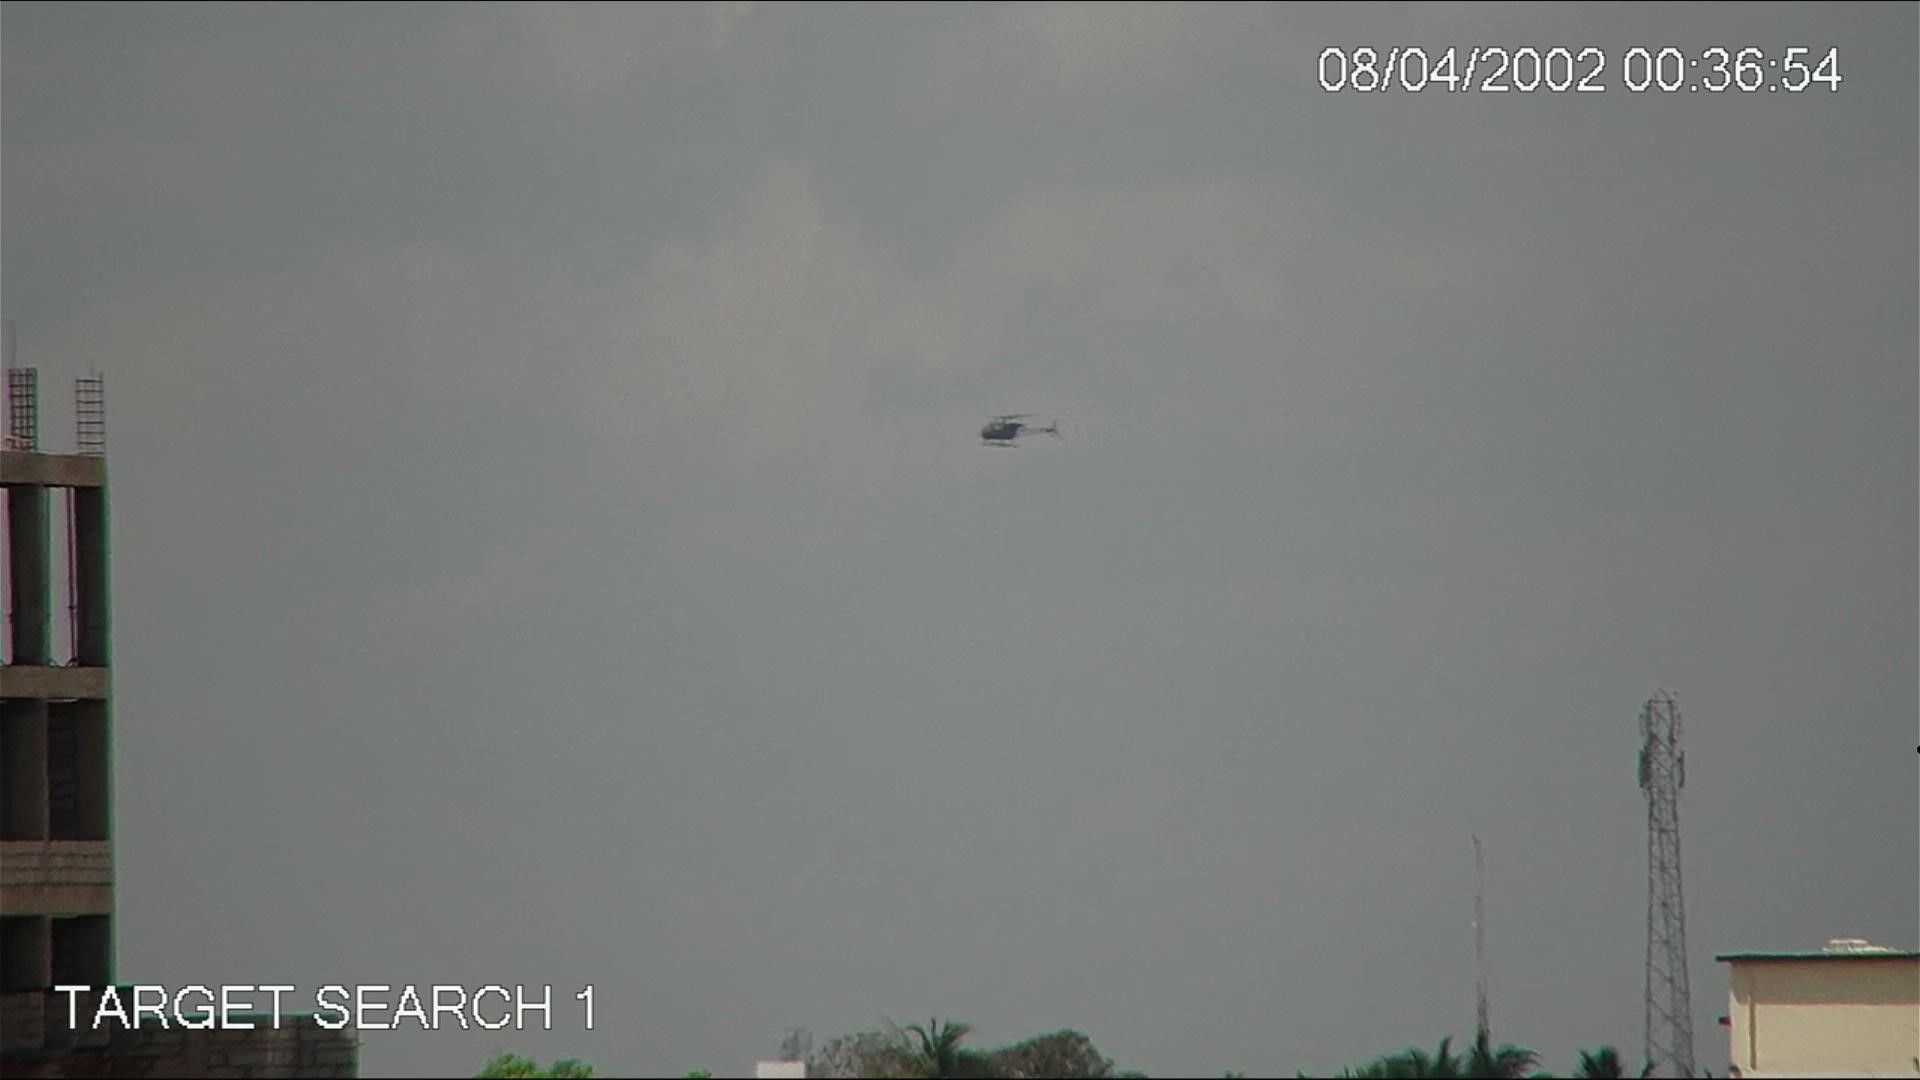SU_30: (975, 409, 1067, 454)
